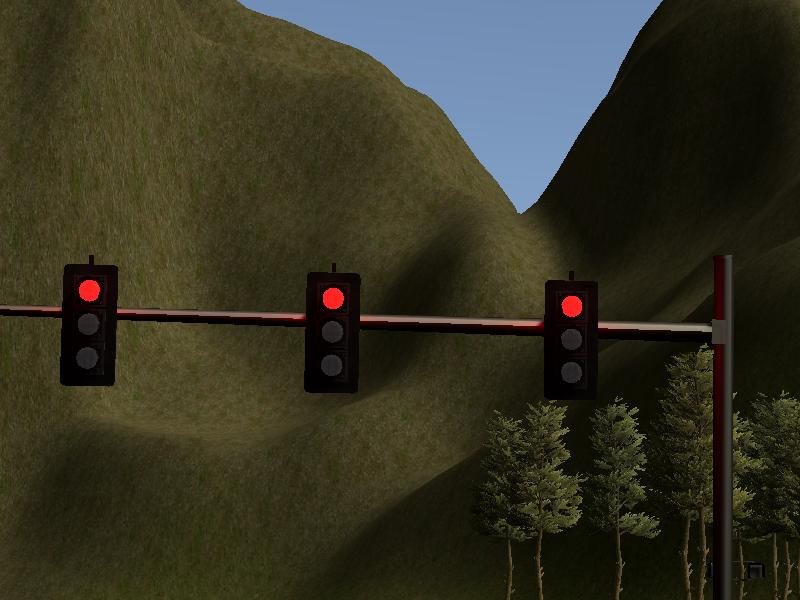Red: (64, 264, 115, 384), (307, 271, 356, 393), (545, 279, 594, 399)
